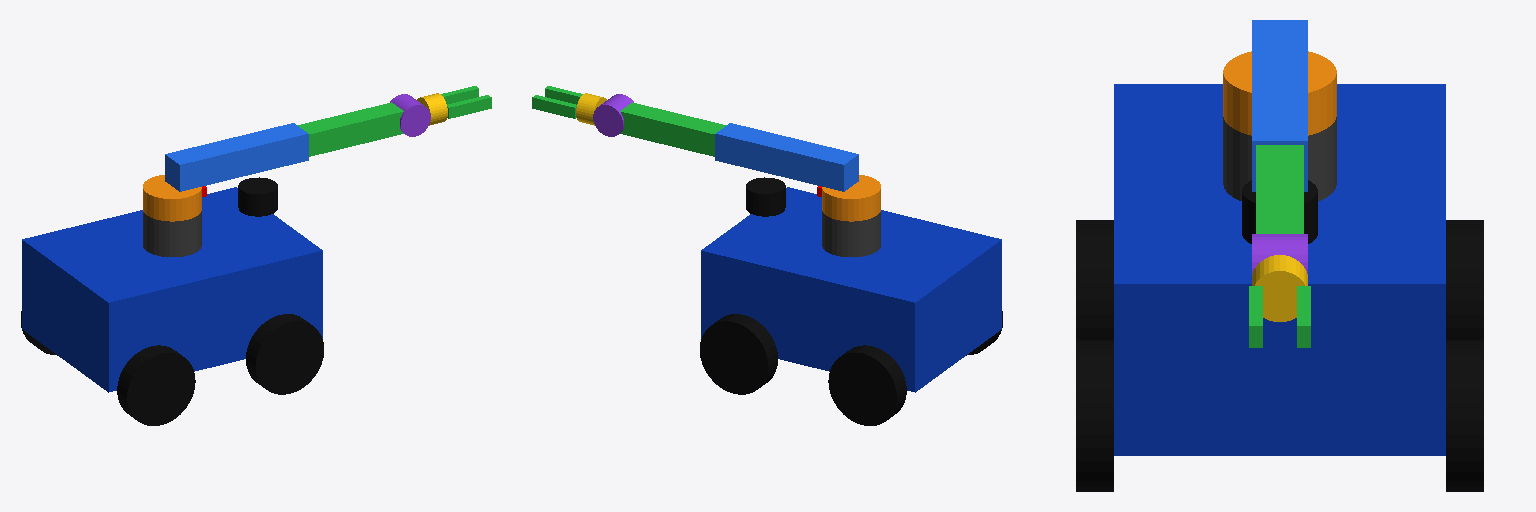
The robot description file, URDF, robot "ax":
<?xml version="1.0" ?>
<!-- =================================================================================== -->
<!-- |    This document was autogenerated by xacro from /home/yhs/ax_ws/src/ax_description/urdf/ax.urdf.xacro | -->
<!-- |    EDITING THIS FILE BY HAND IS NOT RECOMMENDED                                 | -->
<!-- =================================================================================== -->
<robot name="ax">
  <!-- 로봇 기준 좌표 -->
  <link name="base_link">
    <visual>
      <geometry>
        <box size="0.5 0.35 0.2"/>
      </geometry>
      <material name="blue">
        <color rgba="0.1 0.3 0.8 1.0"/>
      </material>
    </visual>
    <collision>
      <geometry>
        <box size="0.5 0.35 0.2"/>
      </geometry>
    </collision>
    <inertial>
      <origin rpy="0 0 0" xyz="0 0 0"/>
      <mass value="8.0"/>
      <inertia ixx="0.10833333333333331" ixy="0" ixz="0" iyy="0.19333333333333336" iyz="0" izz="0.24833333333333332"/>
    </inertial>
  </link>
  <!-- 앞쪽 왼쪽 바퀴 -->
  <link name="front_left_wheel">
    <visual>
      <geometry>
        <cylinder length="0.04" radius="0.08"/>
      </geometry>
      <material name="black">
        <color rgba="0.1 0.1 0.1 1.0"/>
      </material>
    </visual>
    <collision>
      <geometry>
        <cylinder length="0.04" radius="0.08"/>
      </geometry>
    </collision>
    <inertial>
      <origin rpy="0 0 0" xyz="0 0 0"/>
      <mass value="0.5"/>
      <inertia ixx="0.0008666666666666667" ixy="0" ixz="0" iyy="0.0008666666666666667" iyz="0" izz="0.0016"/>
    </inertial>
  </link>
  <!-- 앞쪽 왼쪽 바퀴의 연속 회전 관절: X축으로 -90도 회전하여 바퀴의 로컬 Z축을 차체 Y축에 정렬 -->
  <joint name="front_left_wheel_joint" type="continuous">
    <parent link="base_link"/>
    <child link="front_left_wheel"/>
    <origin rpy="-1.570796 0 0" xyz="0.15 0.195 -0.10"/>
    <axis xyz="0 0 1"/>
  </joint>
  <!-- 앞쪽 오른쪽 바퀴 -->
  <link name="front_right_wheel">
    <visual>
      <geometry>
        <cylinder length="0.04" radius="0.08"/>
      </geometry>
      <material name="black">
        <color rgba="0.1 0.1 0.1 1.0"/>
      </material>
    </visual>
    <collision>
      <geometry>
        <cylinder length="0.04" radius="0.08"/>
      </geometry>
    </collision>
    <inertial>
      <origin rpy="0 0 0" xyz="0 0 0"/>
      <mass value="0.5"/>
      <inertia ixx="0.0008666666666666667" ixy="0" ixz="0" iyy="0.0008666666666666667" iyz="0" izz="0.0016"/>
    </inertial>
  </link>
  <!-- 앞쪽 오른쪽 바퀴의 연속 회전 관절: 차체 오른쪽에 배치하고 회전축을 차체 Y축에 정렬 -->
  <joint name="front_right_wheel_joint" type="continuous">
    <parent link="base_link"/>
    <child link="front_right_wheel"/>
    <origin rpy="-1.570796 0 0" xyz="0.15 -0.195 -0.10"/>
    <axis xyz="0 0 1"/>
  </joint>
  <!-- 뒤쪽 왼쪽 바퀴 -->
  <link name="rear_left_wheel">
    <visual>
      <geometry>
        <cylinder length="0.04" radius="0.08"/>
      </geometry>
      <material name="black">
        <color rgba="0.1 0.1 0.1 1.0"/>
      </material>
    </visual>
    <collision>
      <geometry>
        <cylinder length="0.04" radius="0.08"/>
      </geometry>
    </collision>
    <inertial>
      <origin rpy="0 0 0" xyz="0 0 0"/>
      <mass value="0.5"/>
      <inertia ixx="0.0008666666666666667" ixy="0" ixz="0" iyy="0.0008666666666666667" iyz="0" izz="0.0016"/>
    </inertial>
  </link>
  <!-- 뒤쪽 왼쪽 바퀴의 연속 회전 관절: 차체 뒤쪽 왼편에 배치 -->
  <joint name="rear_left_wheel_joint" type="continuous">
    <parent link="base_link"/>
    <child link="rear_left_wheel"/>
    <origin rpy="-1.570796 0 0" xyz="-0.15 0.195 -0.10"/>
    <axis xyz="0 0 1"/>
  </joint>
  <!-- 뒤쪽 오른쪽 바퀴 -->
  <link name="rear_right_wheel">
    <visual>
      <geometry>
        <cylinder length="0.04" radius="0.08"/>
      </geometry>
      <material name="black">
        <color rgba="0.1 0.1 0.1 1.0"/>
      </material>
    </visual>
    <collision>
      <geometry>
        <cylinder length="0.04" radius="0.08"/>
      </geometry>
    </collision>
    <inertial>
      <origin rpy="0 0 0" xyz="0 0 0"/>
      <mass value="0.5"/>
      <inertia ixx="0.0008666666666666667" ixy="0" ixz="0" iyy="0.0008666666666666667" iyz="0" izz="0.0016"/>
    </inertial>
  </link>
  <!-- 뒤쪽 오른쪽 바퀴의 연속 회전 관절: 차체 뒤쪽 오른편에 배치 -->
  <joint name="rear_right_wheel_joint" type="continuous">
    <parent link="base_link"/>
    <child link="rear_right_wheel"/>
    <origin rpy="-1.570796 0 0" xyz="-0.15 -0.195 -0.10"/>
    <axis xyz="0 0 1"/>
  </joint>
  <!-- 팔 받침대 -->
  <link name="arm_mount_link">
    <visual>
      <geometry>
        <cylinder length="0.08" radius="0.06"/>
      </geometry>
      <material name="arm_mount_gray">
        <color rgba="0.3 0.3 0.3 1"/>
      </material>
    </visual>
    <collision>
      <geometry>
        <cylinder length="0.08" radius="0.06"/>
      </geometry>
    </collision>
    <inertial>
      <origin rpy="0 0 0" xyz="0 0 0"/>
      <mass value="1.0"/>
      <inertia ixx="0.0014333333333333333" ixy="0" ixz="0" iyy="0.0014333333333333333" iyz="0" izz="0.0018"/>
    </inertial>
  </link>
  <!-- 차체와 팔 받침대를 고정 연결: 받침대 중심을 차체 원점보다 0.14 m 위에 배치 -->
  <joint name="arm_mount_joint" type="fixed">
    <parent link="base_link"/>
    <child link="arm_mount_link"/>
    <origin rpy="0 0 0" xyz="0 0 0.14"/>
  </joint>
  <!-- 로봇 팔 회전 베이스 -->
  <link name="arm_rotating_base_link">
    <visual>
      <geometry>
        <cylinder length="0.05" radius="0.06"/>
      </geometry>
      <material name="arm_rotating_base_orange">
        <color rgba="1.0 0.6 0.1 1"/>
      </material>
    </visual>
    <visual>
      <!-- 회전 베이스의 +X 방향을 표시하는 빨간색 시각 표식 -->
      <origin rpy="0 0 0" xyz="0.06 0 0"/>
      <geometry>
        <box size="0.03 0.02 0.02"/>
      </geometry>
      <material name="red">
        <color rgba="1 0 0 1"/>
      </material>
    </visual>
    <collision>
      <geometry>
        <cylinder length="0.05" radius="0.06"/>
      </geometry>
    </collision>
    <inertial>
      <origin rpy="0 0 0" xyz="0 0 0"/>
      <mass value="0.6"/>
      <inertia ixx="0.000665" ixy="0" ixz="0" iyy="0.000665" iyz="0" izz="0.00108"/>
    </inertial>
  </link>
  <!-- 팔 받침대와 회전 베이스 연결: Z축 회전으로 팔의 수평 방향 조절 -->
  <joint name="arm_yaw_joint" type="revolute">
    <parent link="arm_mount_link"/>
    <child link="arm_rotating_base_link"/>
    <origin rpy="0 0 0" xyz="0 0 0.065"/>
    <axis xyz="0 0 1"/>
    <!-- 임시 사양, 기계적 제한과 모터 사양 반영 필요 -->
    <!-- 회전 관절 제한: lower/upper=각도(rad), effort=최대 토크(N·m), velocity=최대 각속도(rad/s) -->
    <limit effort="10.0" lower="-3.14159" upper="3.14159" velocity="1.0"/>
    <!-- 관절 운동 저항: damping은 속도에 비례하는 감쇠, friction은 마찰 저항 -->
    <dynamics damping="3.0" friction="0.0"/>
  </joint>
  <!-- 로봇팔 상완 -->
  <link name="upper_arm_link">
    <visual>
      <origin rpy="0 0 0" xyz="0.15 0 0"/>
      <geometry>
        <box size="0.30 0.06 0.06"/>
      </geometry>
      <material name="upper_arm_blue">
        <color rgba="0.2 0.5 1.0 1"/>
      </material>
    </visual>
    <collision>
      <origin rpy="0 0 0" xyz="0.15 0 0"/>
      <geometry>
        <box size="0.3 0.06 0.06"/>
      </geometry>
    </collision>
    <inertial>
      <origin rpy="0 0 0" xyz="0.15 0 0"/>
      <mass value="1.5"/>
      <inertia ixx="0.0009" ixy="0" ixz="0" iyy="0.0117" iyz="0" izz="0.0117"/>
    </inertial>
  </link>
  <!-- 회전 베이스와 상완 연결: Y축 회전으로 어깨의 굽힘 각도 조절 -->
  <joint name="shoulder_joint" type="revolute">
    <parent link="arm_rotating_base_link"/>
    <child link="upper_arm_link"/>
    <origin rpy="0 0 0" xyz="0 0 0.055"/>
    <!-- Y축 회전 설정 -->
    <axis xyz="0 1 0"/>
    <!-- 임시 사양, 기계적 제한과 모터 사양 반영 필요 -->
    <limit effort="20.0" lower="-1.5708" upper="1.5708" velocity="1.0"/>
    <dynamics damping="2.0" friction="0.0"/>
  </joint>
  <!-- 로봇팔 전완 -->
  <link name="forearm_link">
    <visual>
      <origin rpy="0 0 0" xyz="0.125 0 0"/>
      <geometry>
        <box size="0.25 0.05 0.05"/>
      </geometry>
      <material name="forearm_green">
        <color rgba="0.2 0.8 0.3 1.0"/>
      </material>
    </visual>
    <collision>
      <origin rpy="0 0 0" xyz="0.125 0 0"/>
      <geometry>
        <box size="0.25 0.05 0.05"/>
      </geometry>
    </collision>
    <inertial>
      <origin rpy="0 0 0" xyz="0.125 0 0"/>
      <mass value="1.0"/>
      <inertia ixx="0.00041666666666666675" ixy="0" ixz="0" iyy="0.005416666666666667" iyz="0" izz="0.005416666666666667"/>
    </inertial>
  </link>
  <!-- 상완 끝에서 전완 연결: Y축 회전으로 팔꿈치의 굽힘 각도 조절 -->
  <joint name="elbow_joint" type="revolute">
    <parent link="upper_arm_link"/>
    <child link="forearm_link"/>
    <origin rpy="0 0 0" xyz="0.30 0 0"/>
    <axis xyz="0 1 0"/>
    <!-- 임시 사양, 기계적 제한과 모터 사양 반영 필요 -->
    <limit effort="15" lower="-2.0" upper="2.0" velocity="1.0"/>
    <dynamics damping="1.0" friction="0.0"/>
  </joint>
  <!-- 로봇팔 손목 -->
  <link name="wrist_link">
    <visual>
      <origin rpy="1.570796 0 0" xyz="0 0 0"/>
      <geometry>
        <cylinder length="0.06" radius="0.035"/>
      </geometry>
      <material name="wrist_purple">
        <color rgba="0.6 0.3 0.9 1"/>
      </material>
    </visual>
    <collision>
      <origin rpy="1.570796 0 0" xyz="0 0 0"/>
      <geometry>
        <cylinder length="0.06" radius="0.035"/>
      </geometry>
    </collision>
    <inertial>
      <origin rpy="1.570796 0 0" xyz="0 0 0"/>
      <mass value="0.3"/>
      <inertia ixx="0.000181875" ixy="0" ixz="0" iyy="0.000181875" iyz="0" izz="0.00018375000000000002"/>
    </inertial>
  </link>
  <!-- 전완 끝에서 손목 연결: Y축 회전으로 손목의 굽힘 각도 조절 -->
  <joint name="wrist_joint" type="revolute">
    <parent link="forearm_link"/>
    <child link="wrist_link"/>
    <origin rpy="0 0 0" xyz="0.25 0 0"/>
    <axis xyz="0 1 0"/>
    <!-- 임시 사양, 기계적 제한과 모터 사양 반영 필요 -->
    <limit effort="5" lower="-1.57" upper="1.57" velocity="1.0"/>
    <dynamics damping="0.3" friction="0.0"/>
  </joint>
  <!-- 그리퍼 회전 베이스 -->
  <link name="gripper_base_link">
    <visual>
      <origin rpy="0 1.570796 0" xyz="0 0 0"/>
      <geometry>
        <cylinder length="0.04" radius="0.03"/>
      </geometry>
      <material name="gripper_yellow">
        <color rgba="1.0 0.8 0.1 1"/>
      </material>
    </visual>
    <collision>
      <origin rpy="0 1.570796 0" xyz="0 0 0"/>
      <geometry>
        <cylinder length="0.04" radius="0.03"/>
      </geometry>
    </collision>
    <inertial>
      <origin rpy="0 1.570796 0" xyz="0 0 0"/>
      <mass value="0.2"/>
      <inertia ixx="7.166666666666667e-05" ixy="0" ixz="0" iyy="7.166666666666667e-05" iyz="0" izz="9e-05"/>
    </inertial>
  </link>
  <!-- 손목과 그리퍼 베이스 연결: X축 회전으로 그리퍼의 롤 각도 조절 -->
  <joint name="gripper_rotation_joint" type="revolute">
    <parent link="wrist_link"/>
    <child link="gripper_base_link"/>
    <origin rpy="0 0 0" xyz="0.055 0 0"/>
    <axis xyz="1 0 0"/>
    <!-- 임시 사양, 기계적 제한과 모터 사양 반영 필요 -->
    <limit effort="5.0" lower="-3.14159" upper="3.14159" velocity="1.0"/>
    <dynamics damping="1.0" friction="0.0"/>
  </joint>
  <!-- 왼쪽 그리퍼 손가락 -->
  <link name="left_finger_link">
    <visual>
      <origin rpy="0 0 0" xyz="0.05 0 0"/>
      <geometry>
        <box size="0.10 0.015 0.025"/>
      </geometry>
      <material name="left_finger_green">
        <color rgba="0.2 0.8 0.3 1"/>
      </material>
    </visual>
    <collision>
      <origin rpy="0 0 0" xyz="0.05 0 0"/>
      <geometry>
        <box size="0.1 0.015 0.025"/>
      </geometry>
    </collision>
    <inertial>
      <origin rpy="0 0 0" xyz="0.05 0 0"/>
      <mass value="0.05"/>
      <inertia ixx="3.541666666666667e-06" ixy="0" ixz="0" iyy="4.427083333333334e-05" iyz="0" izz="4.2604166666666675e-05"/>
    </inertial>
  </link>
  <!-- 왼쪽 손가락의 직선 이동 관절: 양의 변위는 +Y 방향으로 이동하여 그리퍼를 벌림 -->
  <joint name="left_finger_joint" type="prismatic">
    <parent link="gripper_base_link"/>
    <child link="left_finger_link"/>
    <origin rpy="0 0 0" xyz="0.02 0.025 0"/>
    <axis xyz="0 1 0"/>
    <!-- 임시 사양, 기계적 제한과 모터 사양 반영 필요 -->
    <!-- 직선 관절 제한: 변위 -0.01~0.02 m, 최대 힘 20 N, 최대 속도 0.05 m/s -->
    <limit effort="20.0" lower="-0.01" upper="0.02" velocity="0.05"/>
  </joint>
  <!-- 오른손 그리퍼 손가락 -->
  <link name="right_finger_link">
    <visual>
      <origin rpy="0 0 0" xyz="0.05 0 0"/>
      <geometry>
        <box size="0.10 0.015 0.025"/>
      </geometry>
      <material name="right_finger_green">
        <color rgba="0.2 0.8 0.3 1"/>
      </material>
    </visual>
    <collision>
      <origin rpy="0 0 0" xyz="0.05 0 0"/>
      <geometry>
        <box size="0.1 0.015 0.025"/>
      </geometry>
    </collision>
    <inertial>
      <origin rpy="0 0 0" xyz="0.05 0 0"/>
      <mass value="0.05"/>
      <inertia ixx="3.541666666666667e-06" ixy="0" ixz="0" iyy="4.427083333333334e-05" iyz="0" izz="4.2604166666666675e-05"/>
    </inertial>
  </link>
  <!-- 오른쪽 손가락의 직선 이동 관절: 양의 변위는 -Y 방향으로 이동하여 그리퍼를 벌림 -->
  <joint name="right_finger_joint" type="prismatic">
    <parent link="gripper_base_link"/>
    <child link="right_finger_link"/>
    <origin rpy="0 0 0" xyz="0.02 -0.025 0"/>
    <axis xyz="0 -1 0"/>
    <!-- 임시 사양, 기계적 제한과 모터 사양 반영 필요 -->
    <!-- 직선 관절 제한: 변위 -0.01~0.02 m, 최대 힘 20 N, 최대 속도 0.05 m/s -->
    <limit effort="20.0" lower="-0.01" upper="0.02" velocity="0.05"/>
    <!-- mimic 설정은 비활성 상태이며 두 손가락은 각각의 위치 제어기로 구동 -->
    <!-- <mimic joint="left_finger_joint" multiplier="1.0" offset="0.0"/> -->
    <dynamics damping="1.0" friction="0.0"/>
  </joint>
  <!-- LiDAR 본체의 시각 형상, 충돌 형상 및 관성 정의 -->
  <link name="lidar_link">
    <visual>
      <geometry>
        <cylinder length="0.05" radius="0.04"/>
      </geometry>
      <material name="lidar_black">
        <color rgba="0.1 0.1 0.1 1.0"/>
      </material>
    </visual>
    <collision>
      <geometry>
        <cylinder length="0.05" radius="0.04"/>
      </geometry>
    </collision>
    <inertial>
      <origin rpy="0 0 0" xyz="0 0 0"/>
      <mass value="0.2"/>
      <inertia ixx="0.00012166666666666668" ixy="0" ixz="0" iyy="0.00012166666666666668" iyz="0" izz="0.00016"/>
    </inertial>
  </link>
  <!-- LiDAR를 차체에 고정: 차체 원점에서 전방 0.20 m, 위쪽 0.16 m에 배치 -->
  <joint name="lidar_joint" type="fixed">
    <parent link="base_link"/>
    <child link="lidar_link"/>
    <origin rpy="0 0 0" xyz="0.20 0 0.16"/>
  </joint>
  <!-- 라이다 센서 설정 -->
  <gazebo reference="lidar_link">
    <sensor name="ax_lidar" type="gpu_lidar">
      <!-- 센서 측정 좌표를 lidar_link 원점 및 방향과 일치시킴 -->
      <pose>0 0 0 0 0 0</pose>
      <!-- Gazebo 센서 출력 토픽: ROS에서 사용하려면 별도의 브리지 필요 -->
      <topic>/scan</topic>
      <gz_frame_id>lidar_link</gz_frame_id>
      <!-- 초당 10회 측정하며 센서를 항상 활성화하고 스캔 시각화 사용 -->
      <update_rate>10</update_rate>
      <always_on>true</always_on>
      <visualize>true</visualize>
      <lidar>
        <scan>
          <!-- 참고용 360도 스캔 설정: 현재 비활성화 -->
          <!-- <horizontal>
                        <samples>360</samples>
                        <resolution>1</resolution>
                        <min_angle>-3.141592</min_angle>
                        <max_angle>3.141592</max_angle>
                    </horizontal> -->
          <!-- 현재 수평 스캔: 전방 180도(-90도~+90도), 181개 샘플, 샘플 해상도 배율 1 -->
          <horizontal>
            <samples>181</samples>
            <resolution>1</resolution>
            <min_angle>-1.570796</min_angle>
            <max_angle>1.570796</max_angle>
          </horizontal>
        </scan>
        <!-- 거리 측정 범위 0.12~10.0 m, 거리 해상도 0.01 m -->
        <range>
          <min>0.12</min>
          <max>10.0</max>
          <resolution>0.01</resolution>
        </range>
      </lidar>
    </sensor>
  </gazebo>
  <!-- GPU LiDAR 동작에 필요한 Gazebo 센서 시스템: Ogre2 렌더링 엔진 사용 -->
  <gazebo>
    <plugin filename="gz-sim-sensors-system" name="gz::sim::systems::Sensors">
      <render_engine>ogre2</render_engine>
    </plugin>
  </gazebo>
  <!-- 4개 바퀴를 좌우 쌍으로 구동하는 차동 구동 시스템: 바퀴 간격과 반지름으로 주행 계산 -->
  <gazebo>
    <plugin filename="gz-sim-diff-drive-system" name="gz::sim::systems::DiffDrive">
      <left_joint>front_left_wheel_joint</left_joint>
      <right_joint>front_right_wheel_joint</right_joint>
      <left_joint>rear_left_wheel_joint</left_joint>
      <right_joint>rear_right_wheel_joint</right_joint>
      <wheel_separation>0.39</wheel_separation>
      <wheel_radius>0.08</wheel_radius>
    </plugin>
  </gazebo>
  <!-- 어깨 관절 위치 제어: Gazebo 명령 토픽으로 목표 각도(rad) 수신 -->
  <gazebo>
    <plugin filename="gz-sim-joint-position-controller-system" name="gz::sim::systems::JointPositionController">
      <joint_name>shoulder_joint</joint_name>
      <topic>/model/ax/shoulder_joint/position</topic>
      <!-- 위치 오차에 대한 비례 이득: 값이 클수록 오차에 대한 제어 출력 증가 -->
      <p_gain>10</p_gain>
    </plugin>
  </gazebo>
  <!-- 팔꿈치 관절 위치 제어: Gazebo 명령 토픽으로 목표 각도(rad) 수신 -->
  <gazebo>
    <plugin filename="gz-sim-joint-position-controller-system" name="gz::sim::systems::JointPositionController">
      <joint_name>elbow_joint</joint_name>
      <topic>/model/ax/elbow_joint/position</topic>
      <p_gain>10</p_gain>
    </plugin>
  </gazebo>
  <!-- 손목 관절 위치 제어: Gazebo 명령 토픽으로 목표 각도(rad) 수신 -->
  <gazebo>
    <plugin filename="gz-sim-joint-position-controller-system" name="gz::sim::systems::JointPositionController">
      <joint_name>wrist_joint</joint_name>
      <topic>/model/ax/wrist_joint/position</topic>
      <p_gain>5</p_gain>
    </plugin>
  </gazebo>
  <!-- 왼쪽 손가락 위치 제어: Gazebo 명령 토픽으로 목표 변위(m) 수신 -->
  <gazebo>
    <plugin filename="gz-sim-joint-position-controller-system" name="gz::sim::systems::JointPositionController">
      <joint_name>left_finger_joint</joint_name>
      <topic>/model/ax/left_finger_joint/position</topic>
      <p_gain>100</p_gain>
    </plugin>
  </gazebo>
  <!-- 오른쪽 손가락 위치 제어: Gazebo 명령 토픽으로 목표 변위(m) 수신 -->
  <gazebo>
    <plugin filename="gz-sim-joint-position-controller-system" name="gz::sim::systems::JointPositionController">
      <joint_name>right_finger_joint</joint_name>
      <topic>/model/ax/right_finger_joint/position</topic>
      <p_gain>100</p_gain>
    </plugin>
  </gazebo>
  <!-- 그리퍼 회전 관절 위치 제어: Gazebo 명령 토픽으로 목표 각도(rad) 수신 -->
  <gazebo>
    <plugin filename="gz-sim-joint-position-controller-system" name="gz::sim::systems::JointPositionController">
      <joint_name>gripper_rotation_joint</joint_name>
      <topic>/model/ax/gripper_rotation_joint/position</topic>
      <p_gain>5</p_gain>
    </plugin>
  </gazebo>
  <!-- 팔 회전 베이스 위치 제어: Gazebo 명령 토픽으로 목표 각도(rad) 수신 -->
  <gazebo>
    <plugin filename="gz-sim-joint-position-controller-system" name="gz::sim::systems::JointPositionController">
      <joint_name>arm_yaw_joint</joint_name>
      <topic>/model/ax/arm_yaw_joint/position</topic>
      <p_gain>3</p_gain>
    </plugin>
  </gazebo>
</robot>

--- Facts derived from the render (not from the file) ---
Views: 3 orthographic renders of the robot side by side, from view 1: azimuth 30°, elevation 25°; view 2: azimuth 150°, elevation 25°; view 3: azimuth 270°, elevation 25°.
Model ax with 14 links and 13 joints (5 revolute, 4 continuous, 2 prismatic, 2 fixed), rooted at base_link, posed all joints at 0.
Links seen in each view (by area): view 1: base_link, upper_arm_link, front_right_wheel, rear_right_wheel, forearm_link, arm_mount_link, arm_rotating_base_link, lidar_link, wrist_link, right_finger_link, gripper_base_link; view 2: base_link, upper_arm_link, front_left_wheel, rear_left_wheel, forearm_link, arm_mount_link, arm_rotating_base_link, lidar_link, wrist_link, left_finger_link, gripper_base_link; view 3: base_link, upper_arm_link, front_left_wheel, front_right_wheel, rear_left_wheel, rear_right_wheel, forearm_link, arm_rotating_base_link, arm_mount_link, gripper_base_link, lidar_link, wrist_link (+2 smaller).
Boxes of the visible links, x1,y1,x2,y2 form: base_link: (22,187,322,392); upper_arm_link: (165,123,308,191); front_right_wheel: (246,314,323,394); rear_right_wheel: (117,345,195,425); forearm_link: (297,102,403,156); arm_mount_link: (143,211,201,256); arm_rotating_base_link: (143,175,206,221); lidar_link: (238,177,277,216); wrist_link: (390,94,430,136); right_finger_link: (447,95,491,118); gripper_base_link: (417,93,447,125); base_link: (701,187,1001,392); upper_arm_link: (715,123,858,191); front_left_wheel: (700,314,777,394); rear_left_wheel: (828,345,906,425); forearm_link: (620,102,726,156); arm_mount_link: (822,211,880,256); arm_rotating_base_link: (817,175,880,221); lidar_link: (746,177,785,216); wrist_link: (593,94,633,136); left_finger_link: (532,95,576,118); gripper_base_link: (576,93,606,125); base_link: (1114,84,1445,455); upper_arm_link: (1252,20,1307,191); front_left_wheel: (1446,340,1483,491); front_right_wheel: (1076,340,1113,491); rear_left_wheel: (1446,220,1483,339); rear_right_wheel: (1076,220,1113,339); forearm_link: (1256,145,1303,233); arm_rotating_base_link: (1223,51,1336,135); arm_mount_link: (1223,117,1336,200); gripper_base_link: (1252,255,1307,321); lidar_link: (1242,180,1317,243); wrist_link: (1252,234,1307,273).
Bounding box of the posed robot: 0.975 × 0.43 × 0.475 m (x, y, z).
Geometry: primitives only (box / cylinder / sphere), no mesh files.
